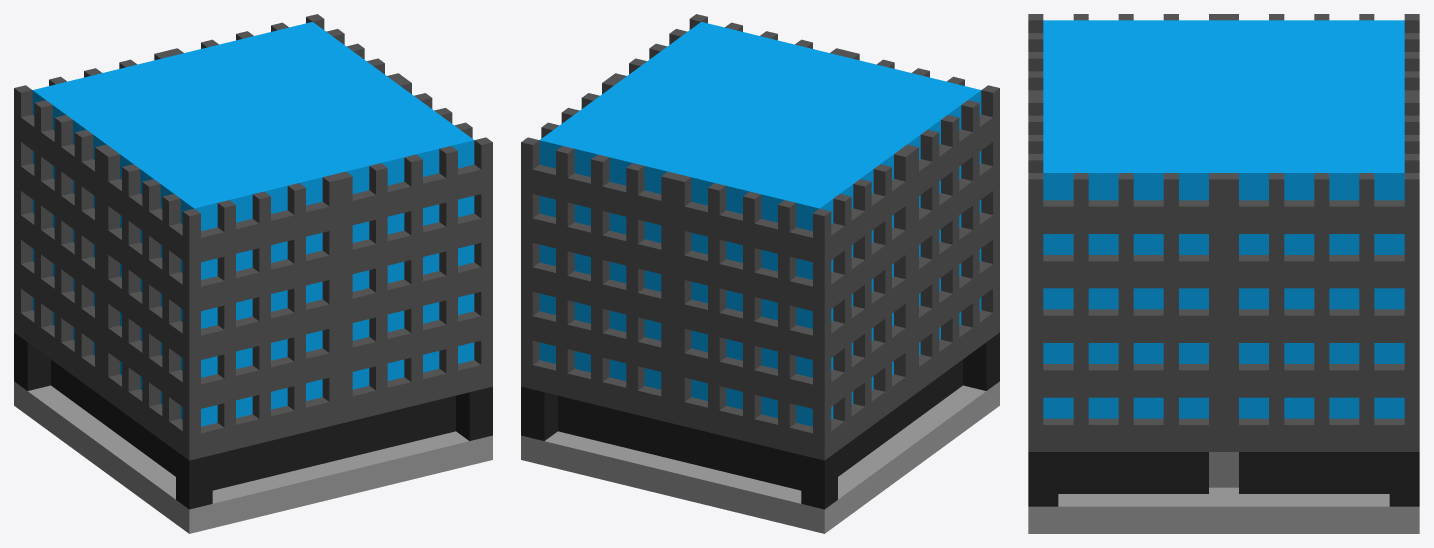
Rendered from tall_base1.obj.
3 views of the same model, side by side, from view 1: azimuth 30°, elevation 25°; view 2: azimuth 150°, elevation 25°; view 3: azimuth 270°, elevation 25° (orthographic). The views are drawn at different scales.
Bounding box in the file's own units: 2.6 × 2.6 × 2.6.
Materials: 1 (1 with a texture image).
